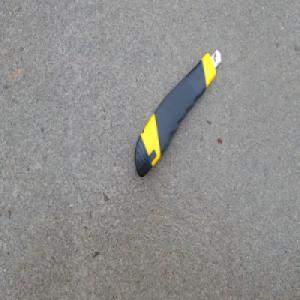Cutter: (134, 48, 221, 180)
